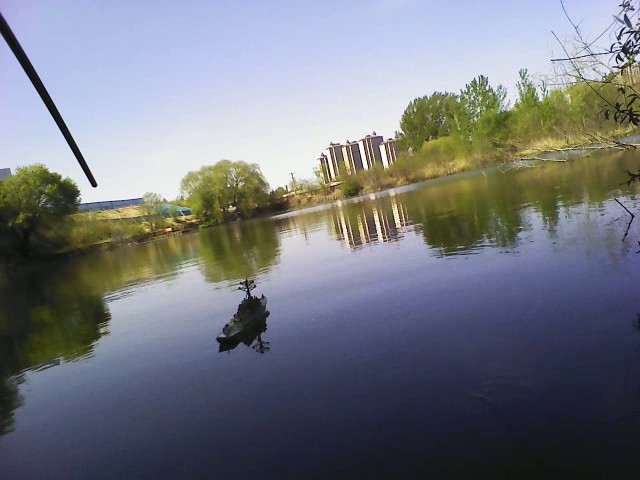warship: (211, 277, 276, 350)
